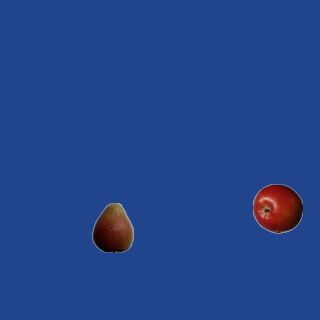Apple Braeburn: (252, 183, 302, 233)
Pear Forelle: (87, 202, 137, 252)
